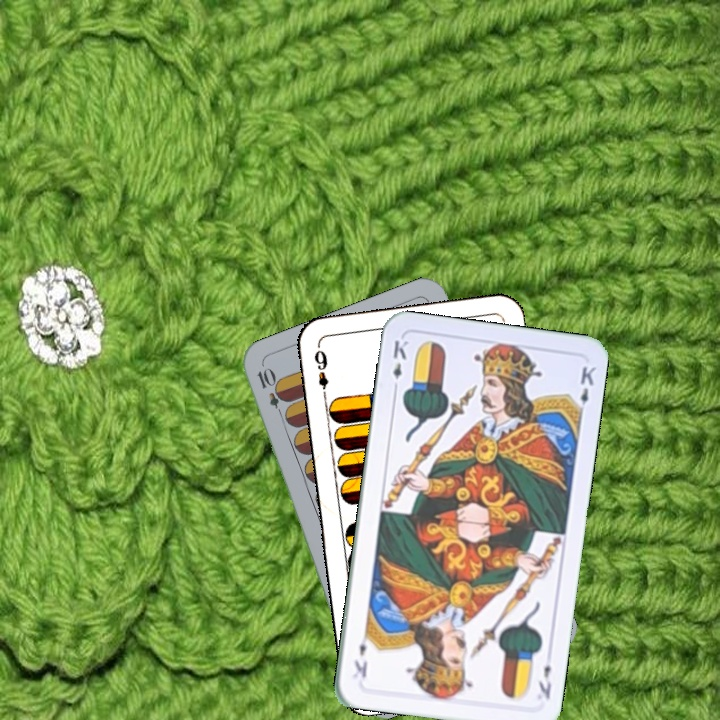E10: (253, 364, 288, 421)
E9: (310, 346, 331, 402)
EK: (389, 336, 410, 395), (534, 660, 554, 702)
